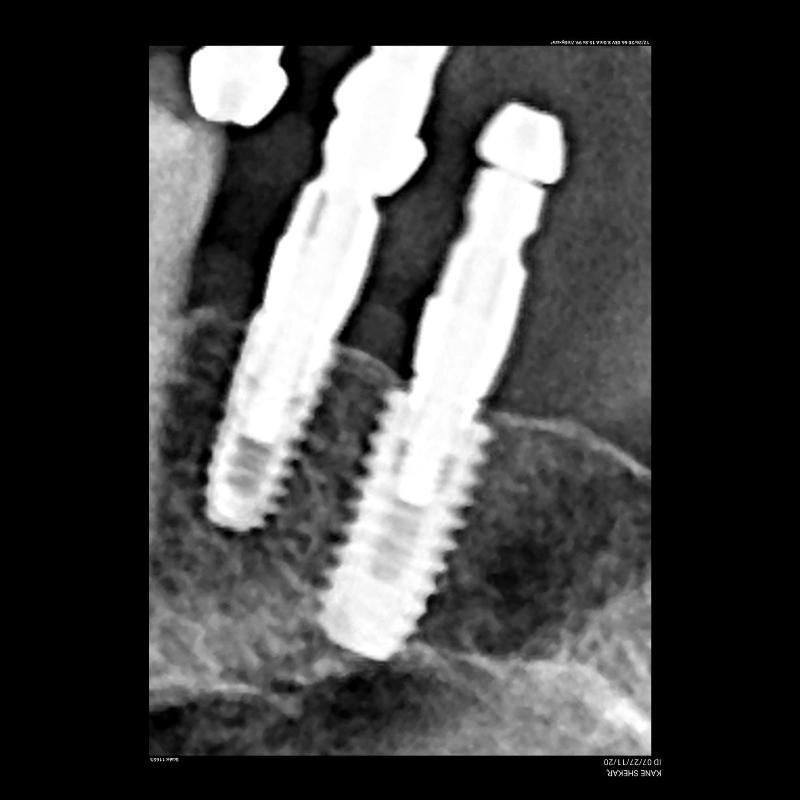osstem: (198, 186, 378, 530), (318, 399, 500, 665)
